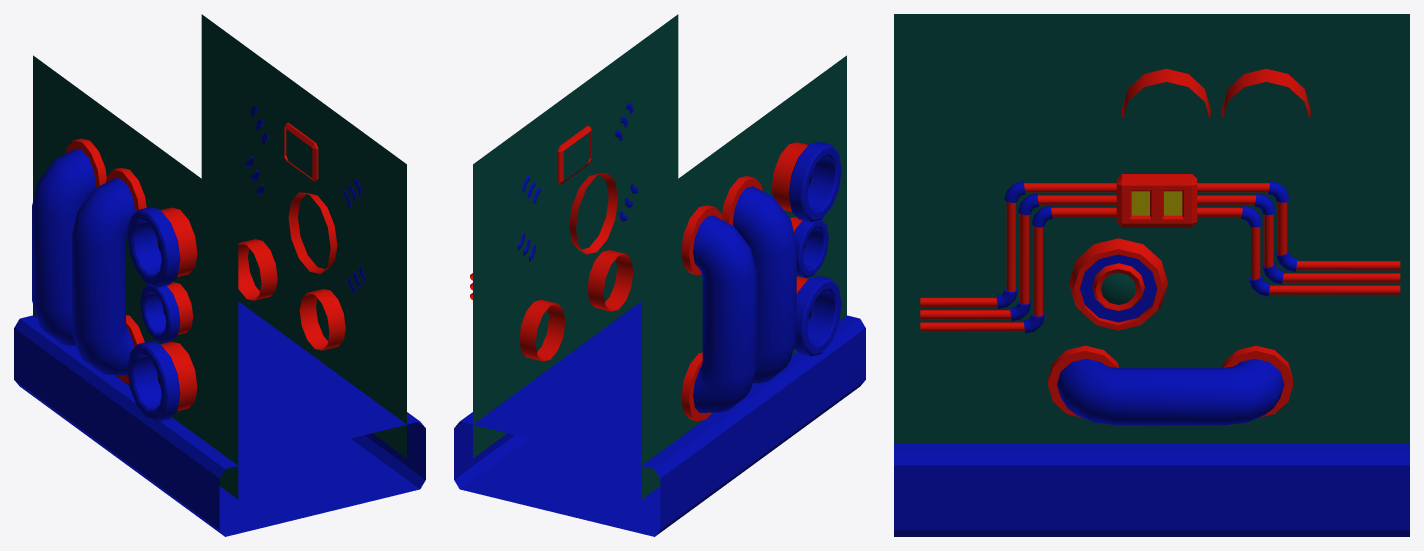
File: OBJ_Mur_Cube.fbx
3 views of the same model, side by side, from view 1: azimuth 30°, elevation 25°; view 2: azimuth 150°, elevation 25°; view 3: azimuth 270°, elevation 25° (orthographic). The views are drawn at different scales.
Visible parts, largest first — view 1: OBJ_Mur_Cube; view 2: OBJ_Mur_Cube; view 3: OBJ_Mur_Cube.
Part boxes in pixels (left/top/right/bottom): OBJ_Mur_Cube: left=14, top=14, right=425, bottom=536; OBJ_Mur_Cube: left=454, top=14, right=865, bottom=536; OBJ_Mur_Cube: left=894, top=14, right=1409, bottom=536.
Bounding box in the file's own units: 17.23 × 19.95 × 22.65.
